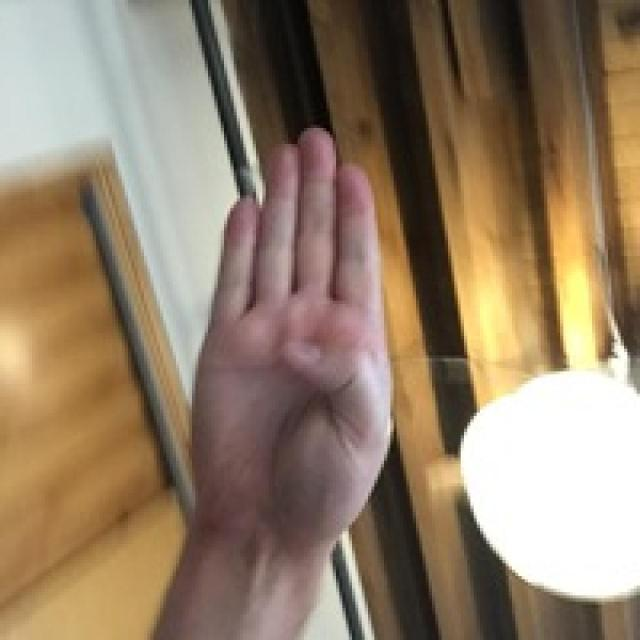B: (150, 42, 413, 576)
